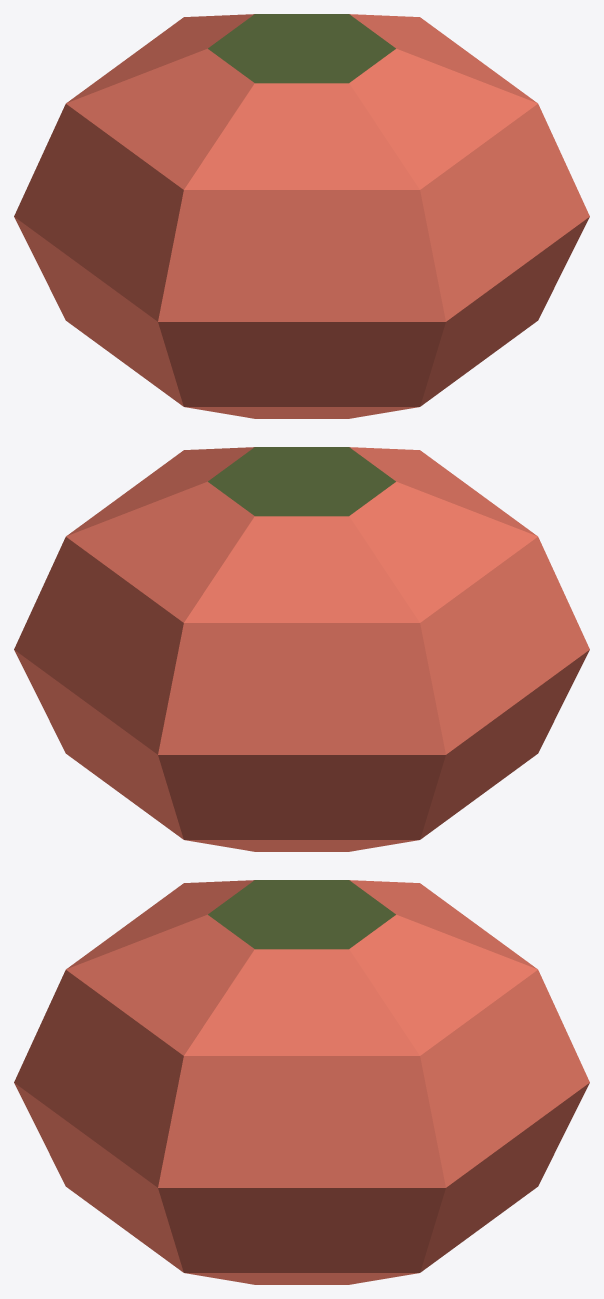
Rendered from Mandarine.fbx.
The picture shows the model from 3 angles, top to bottom: view 1: azimuth 30°, elevation 25°; view 2: azimuth 150°, elevation 25°; view 3: azimuth 270°, elevation 25°; orthographic projection.
Visible parts, largest first — view 1: Mandarine; view 2: Mandarine; view 3: Mandarine.
Part boxes in pixels (x1=…): Mandarine: x1=14, y1=14, x2=589, y2=418; Mandarine: x1=14, y1=447, x2=589, y2=851; Mandarine: x1=14, y1=880, x2=589, y2=1284.
Bounding box in the file's own units: 35.5 × 26.36 × 40.99.
